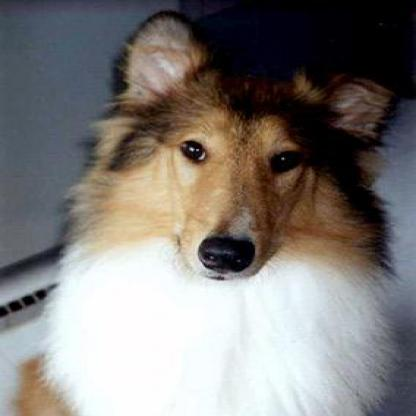collie: (13, 10, 416, 416)
